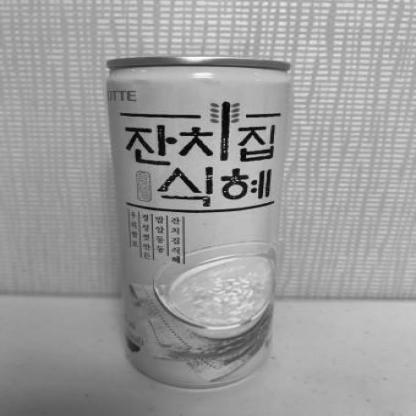alumunium_can: (96, 45, 300, 400)
